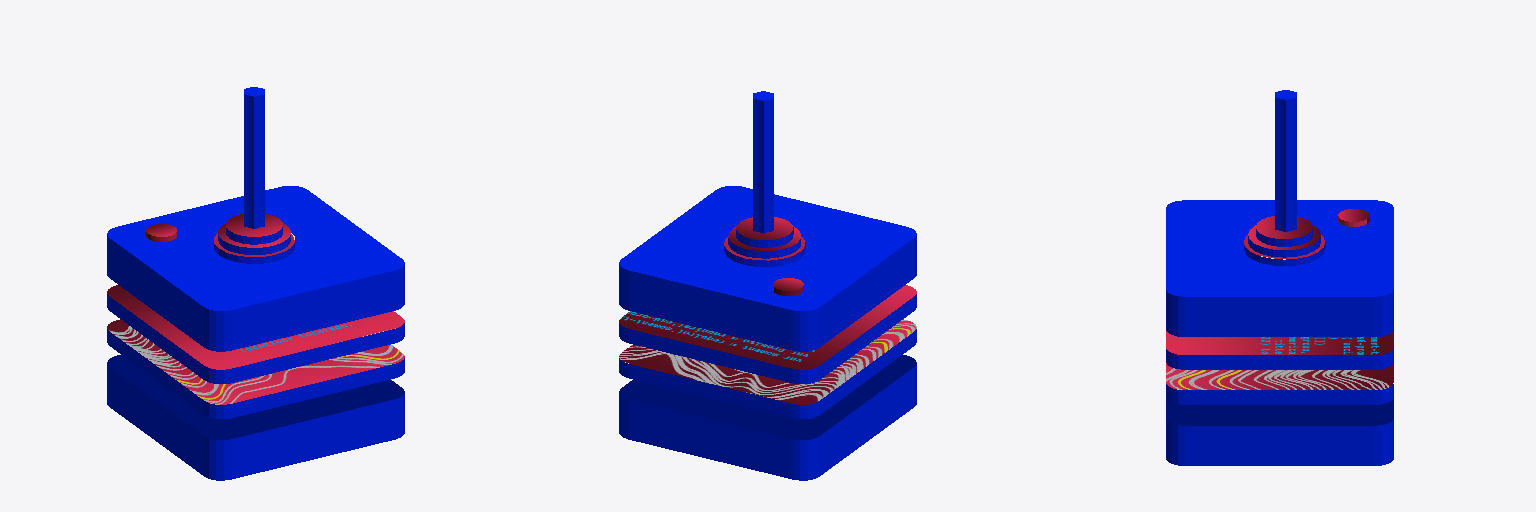
The picture shows the model from 3 angles: view 1: azimuth 30°, elevation 25°; view 2: azimuth 150°, elevation 25°; view 3: azimuth 270°, elevation 25°; orthographic projection.
Parts seen in each view (by area): view 1: stick pCube4, stick pCube5, stick pCube6, stick pCube7, stick pCylinder5, stick pCylinder4, stick pCylinder3, stick pCylinder2; view 2: stick pCube4, stick pCube5, stick pCube6, stick pCube7, stick pCylinder5, stick pCylinder4, stick pCylinder3, stick pCylinder2; view 3: stick pCube4, stick pCube5, stick pCube6, stick pCube7, stick pCylinder5, stick pCylinder4, stick pCylinder3, stick pCylinder2.
Part boxes in pixels (left/top/right/bottom): stick pCube4: left=107, top=186, right=404, bottom=351; stick pCube5: left=107, top=355, right=404, bottom=480; stick pCube6: left=107, top=319, right=404, bottom=419; stick pCube7: left=107, top=285, right=404, bottom=383; stick pCylinder5: left=244, top=87, right=264, bottom=228; stick pCylinder4: left=226, top=214, right=282, bottom=244; stick pCylinder3: left=218, top=223, right=290, bottom=254; stick pCylinder2: left=214, top=233, right=294, bottom=263; stick pCube4: left=619, top=186, right=916, bottom=351; stick pCube5: left=619, top=355, right=916, bottom=480; stick pCube6: left=619, top=319, right=916, bottom=419; stick pCube7: left=619, top=285, right=916, bottom=383; stick pCylinder5: left=753, top=91, right=773, bottom=233; stick pCylinder4: left=736, top=217, right=793, bottom=247; stick pCylinder3: left=728, top=226, right=800, bottom=258; stick pCylinder2: left=724, top=236, right=805, bottom=266; stick pCube4: left=1166, top=200, right=1393, bottom=336; stick pCube5: left=1166, top=398, right=1393, bottom=465; stick pCube6: left=1166, top=363, right=1393, bottom=404; stick pCube7: left=1166, top=331, right=1393, bottom=369; stick pCylinder5: left=1275, top=90, right=1296, bottom=231; stick pCylinder4: left=1256, top=216, right=1312, bottom=246; stick pCylinder3: left=1248, top=225, right=1320, bottom=257; stick pCylinder2: left=1244, top=235, right=1325, bottom=265.
Bounding box in the file's own units: 0.0637 × 0.0995 × 0.0637.
Materials: 7 (3 with a texture image).